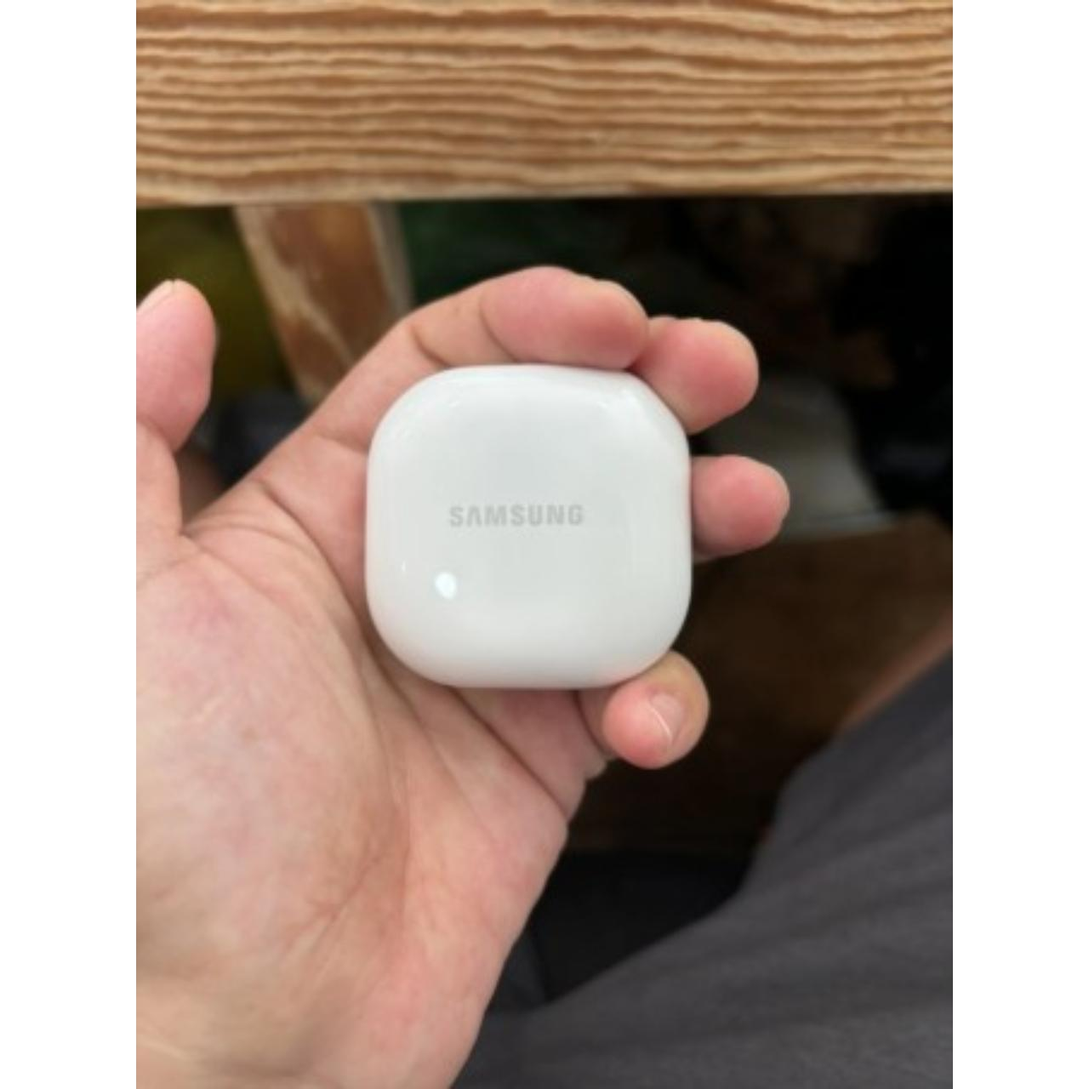Buds: (365, 361, 697, 704)
